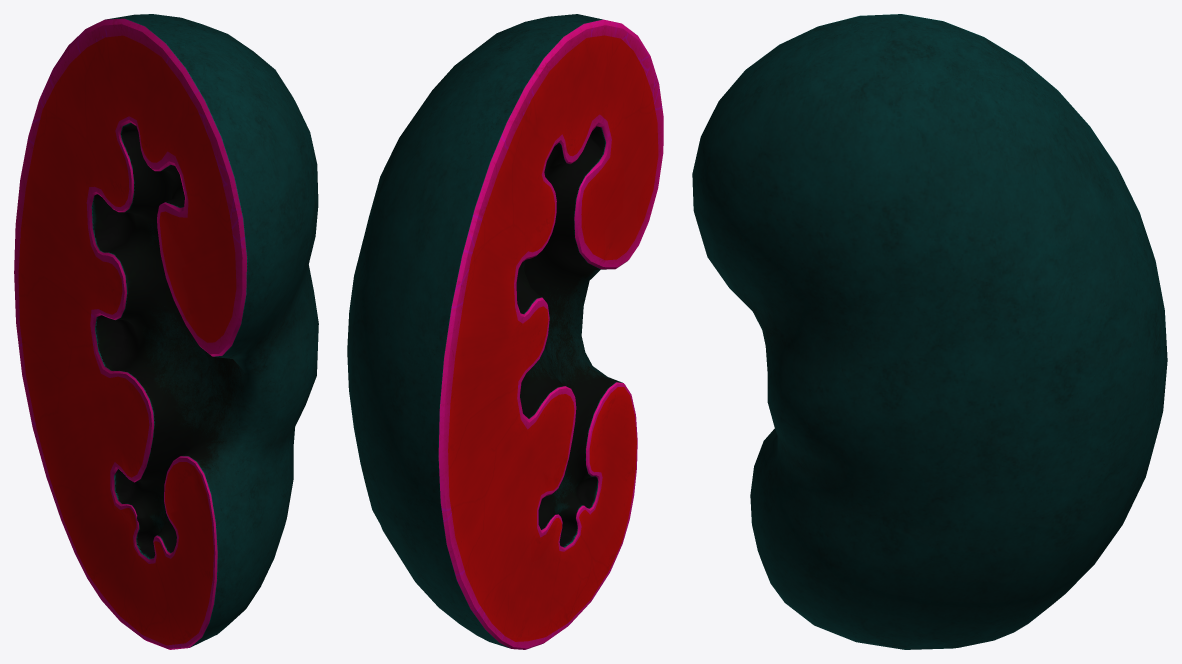
Rendered from Rinon_Corte.glb.
3 renders of one model, left to right at view 1: azimuth 30°, elevation 25°; view 2: azimuth 150°, elevation 25°; view 3: azimuth 270°, elevation 25°, orthographic. The views are drawn at different scales.
Parts seen in each view (by area): view 1: RINON_CORTE; view 2: RINON_CORTE; view 3: RINON_CORTE.
Part boxes in pixels (<box>): RINON_CORTE: <box>14,14,318,649</box>; RINON_CORTE: <box>347,14,663,649</box>; RINON_CORTE: <box>692,14,1167,649</box>.
Bounding box in the file's own units: 0.684 × 2.37 × 1.63.
Materials: 1 (1 with a texture image).
